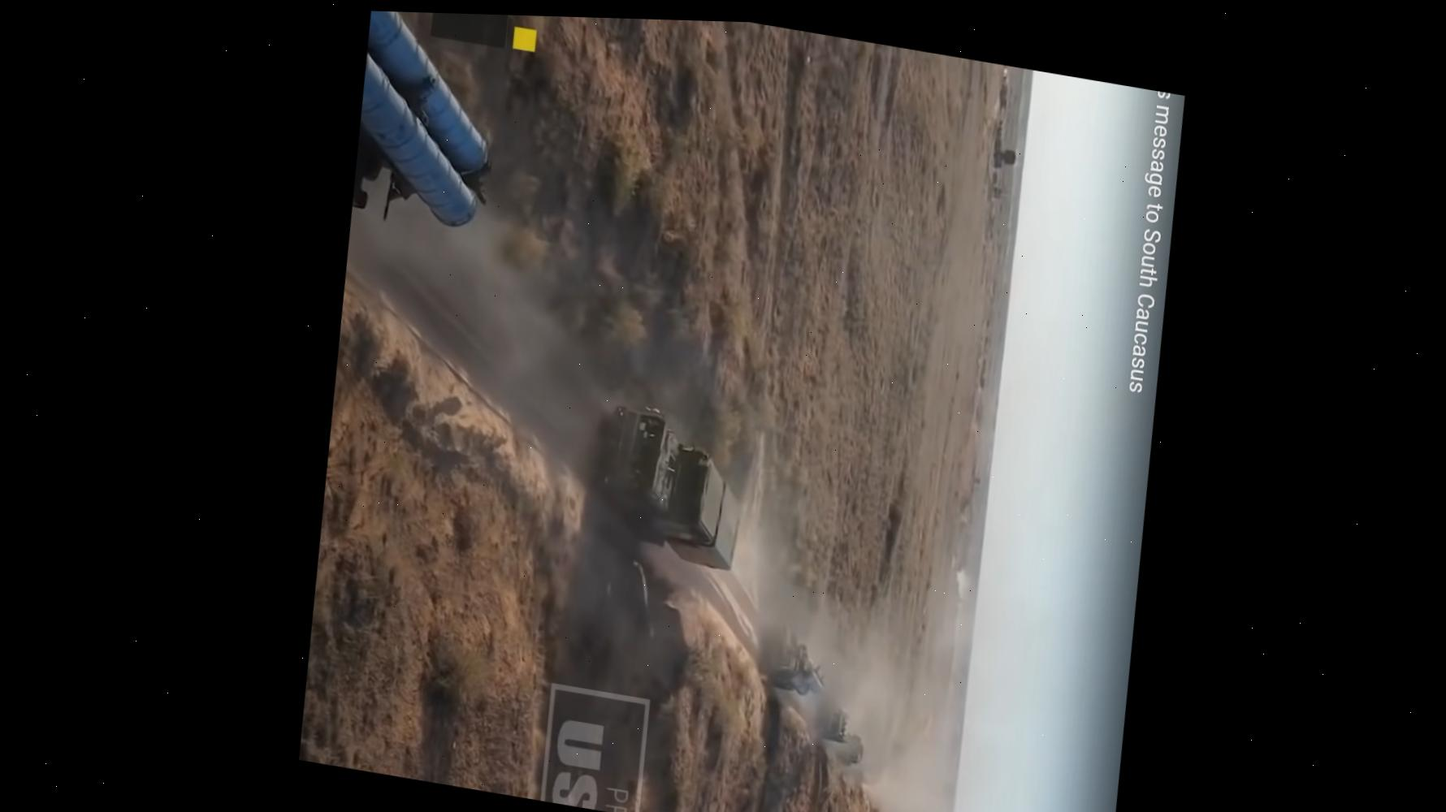truck: (578, 393, 773, 602)
